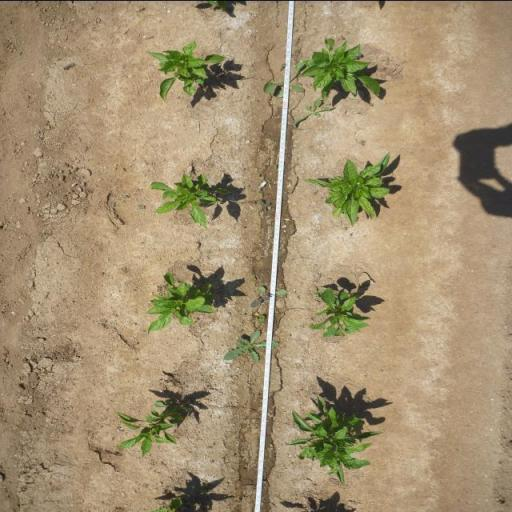plant: (283, 394, 386, 488), (303, 150, 392, 225), (297, 36, 383, 102), (146, 39, 228, 102), (142, 270, 220, 335), (148, 172, 232, 230), (303, 284, 372, 338), (114, 410, 185, 458)
weed: (222, 328, 280, 362), (262, 60, 304, 98), (291, 98, 337, 127), (249, 284, 288, 308), (152, 395, 194, 411), (256, 197, 272, 212), (196, 488, 212, 494), (257, 313, 266, 321), (137, 204, 145, 209), (252, 275, 258, 280), (132, 342, 138, 346), (342, 226, 348, 230), (274, 163, 278, 168), (370, 102, 374, 107), (282, 190, 288, 193), (258, 174, 260, 176)
